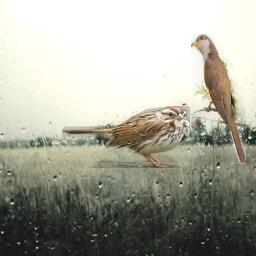Cuckoo: (191, 34, 246, 164)
Sparrow: (62, 106, 190, 168)
